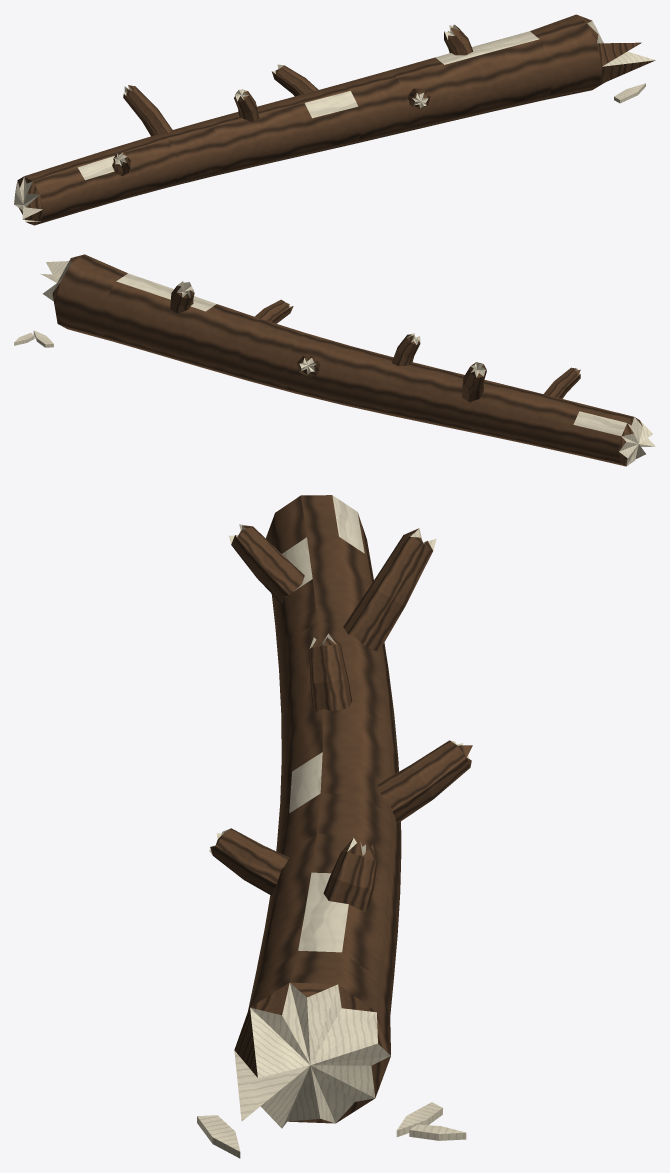
Rendered from trampled_log.fbx.
3 renders of one model, top to bottom at view 1: azimuth 30°, elevation 25°; view 2: azimuth 150°, elevation 25°; view 3: azimuth 270°, elevation 25°, orthographic. The views are drawn at different scales.
Visible parts, largest first — view 1: trampled_log_Bark; view 2: trampled_log_Bark; view 3: trampled_log_Bark.
Boxes of the visible parts, x1=… form: trampled_log_Bark: x1=14, y1=14, x2=655, y2=225; trampled_log_Bark: x1=14, y1=254, x2=655, y2=466; trampled_log_Bark: x1=197, y1=495, x2=472, y2=1158.
Bounding box in the file's own units: 30.47 × 4.2 × 5.83.
Materials: 1 (1 with a texture image).
